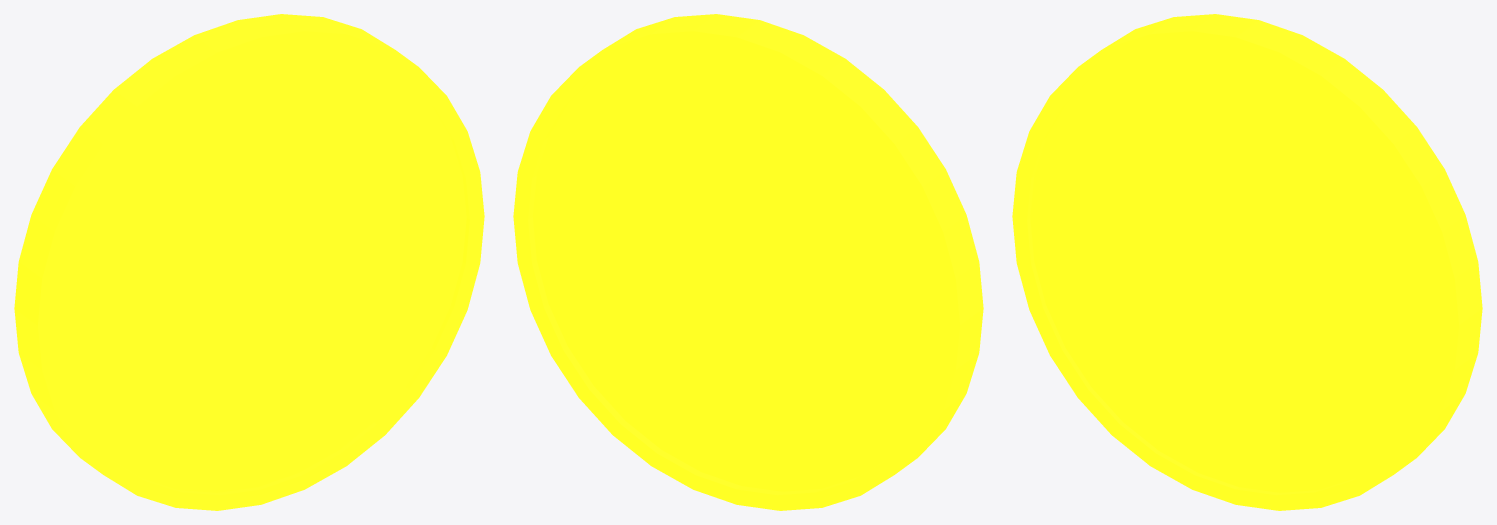
The model's file is coin.glb.
3 views of the same model, side by side, from view 1: azimuth 30°, elevation 25°; view 2: azimuth 150°, elevation 25°; view 3: azimuth 330°, elevation 25° (orthographic).
Parts seen in each view (by area): view 1: Cylinder; view 2: Cylinder; view 3: Cylinder.
Boxes of the visible parts, x1,y1,x2,y2 form: Cylinder: [14, 14, 484, 510]; Cylinder: [513, 14, 983, 510]; Cylinder: [1012, 14, 1482, 510].
Bounding box in the file's own units: 0.7548 × 0.7548 × 0.0686.
